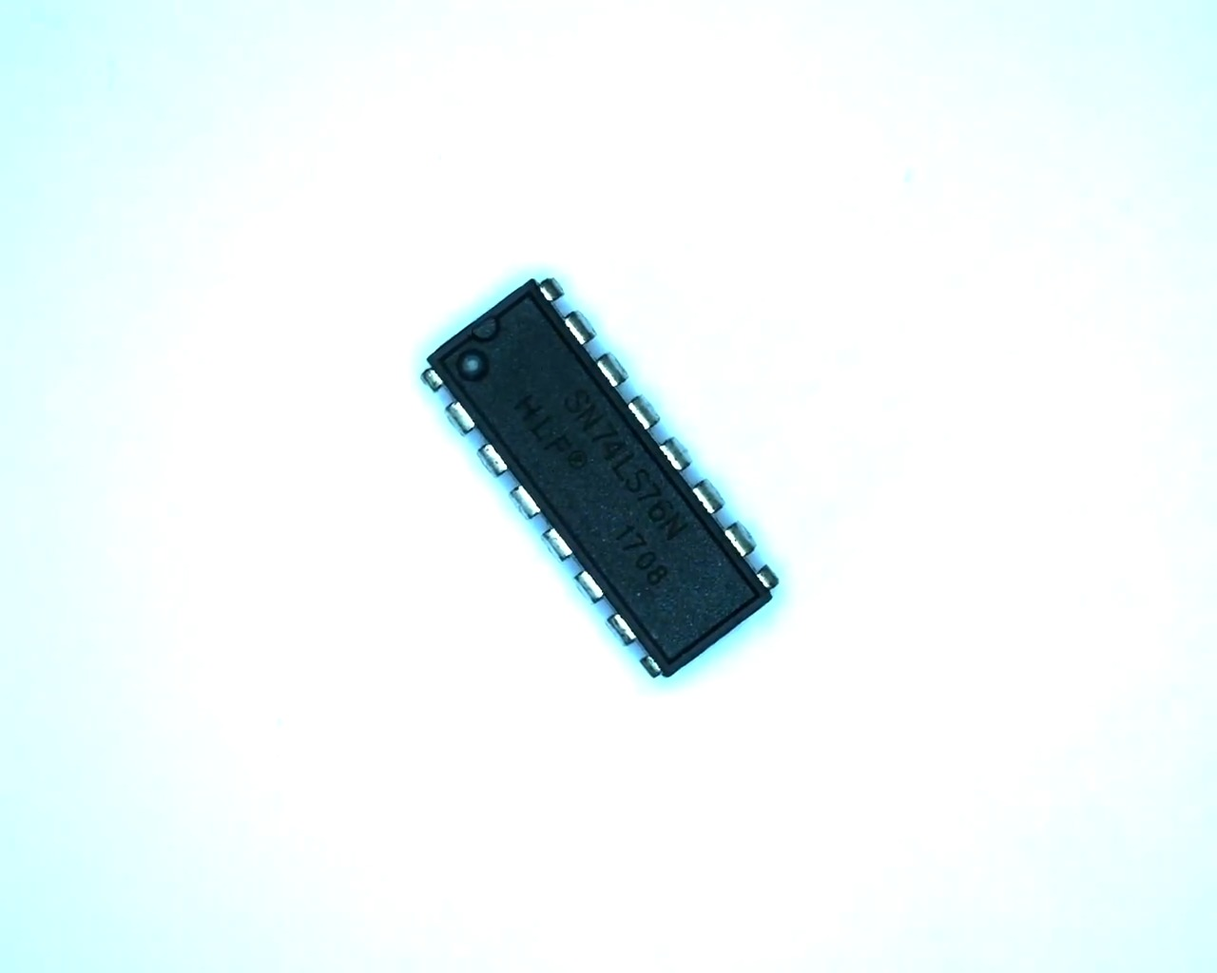IC: (411, 264, 794, 695)
notch: (469, 308, 504, 348)
